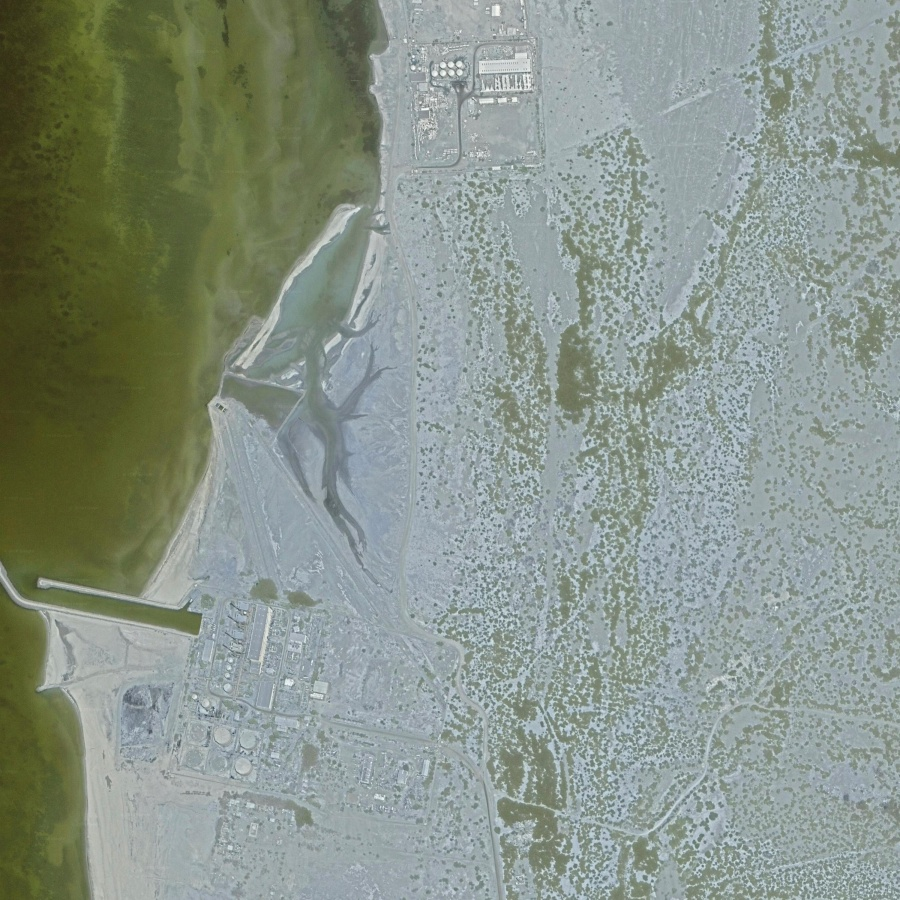PowerPlant: (109, 590, 337, 793)
